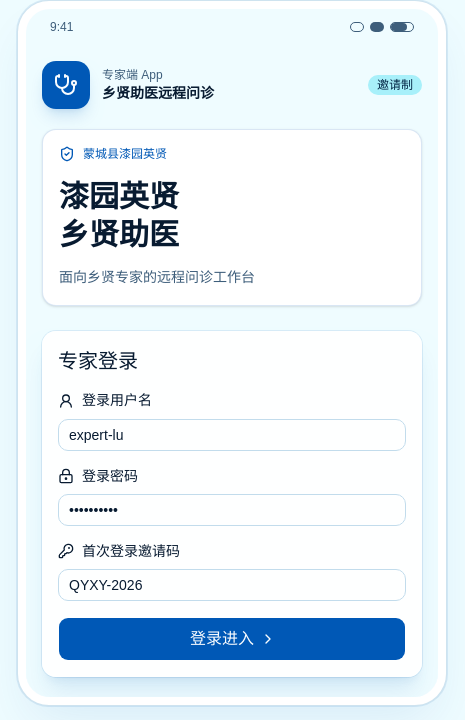
Test: ExpertView consultation detail › omits auxiliary helper descriptions while keeping expert app controls
Check: the text "专家登录" is shown, box [58, 350, 138, 372]
Check: the field labelled "登录用户名" is shown, box [58, 418, 406, 450]
Click the button with test id "expert-login-submit": (232, 639) [58, 617, 406, 661]
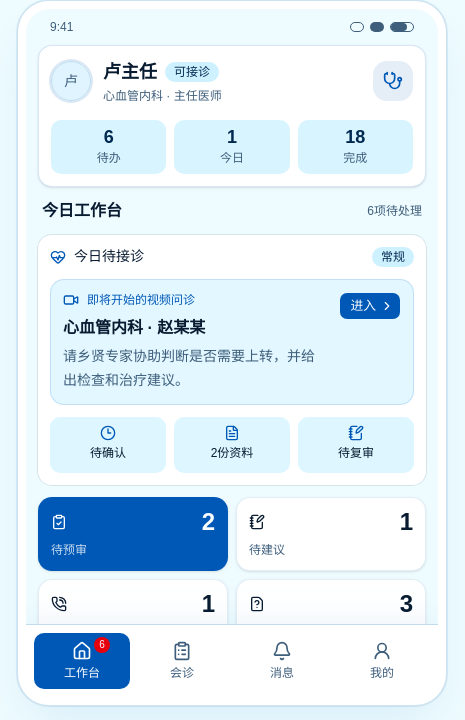
Check: the heading "今日工作台" is shown, box [42, 199, 122, 223]
Click the button "会诊": (182, 661) [134, 633, 230, 689]
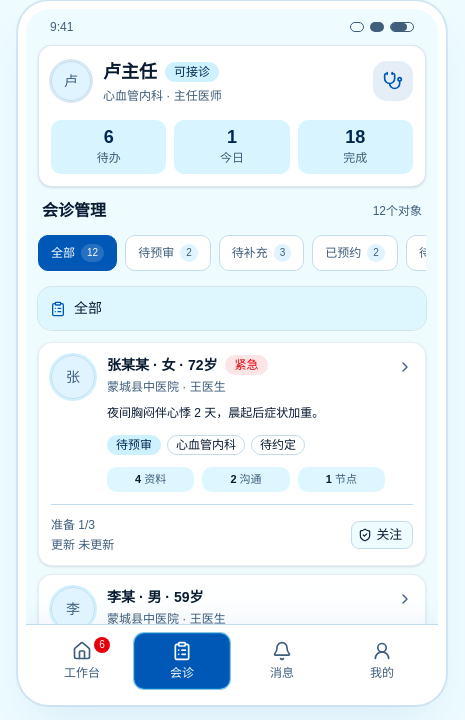
Check: the heading "会诊管理" is shown, box [42, 199, 106, 223]
Check: the button with test id "consultation-category-all" is shown, box [38, 235, 117, 271]
Click the button with test id "consultation-open-consult-20260712-101": (73, 377) [51, 355, 413, 492]
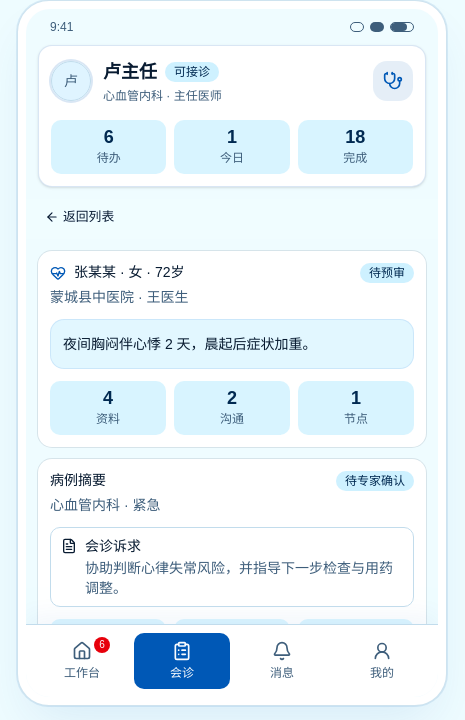
Click the button with test id "consultation-detail-back": (82, 217) [38, 203, 125, 231]
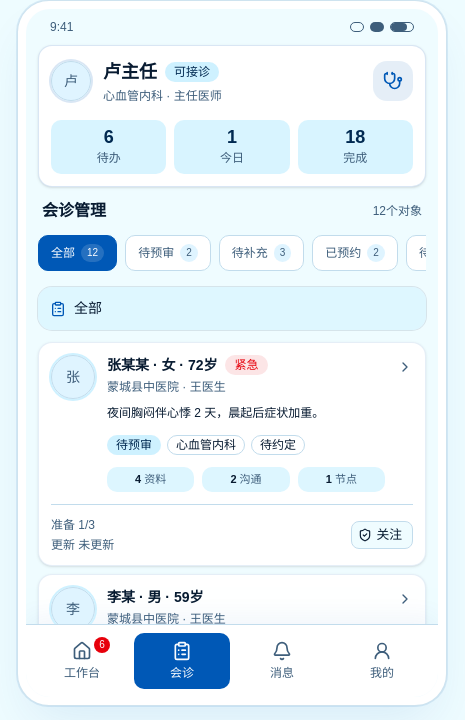
Click the button "我的": (382, 661) [334, 633, 430, 689]
(page scrolled)
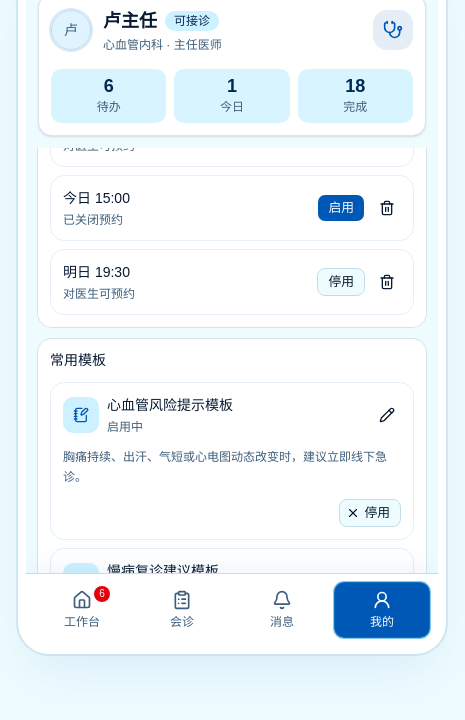
Check: the text "常用模板" is shown, box [50, 352, 106, 368]
